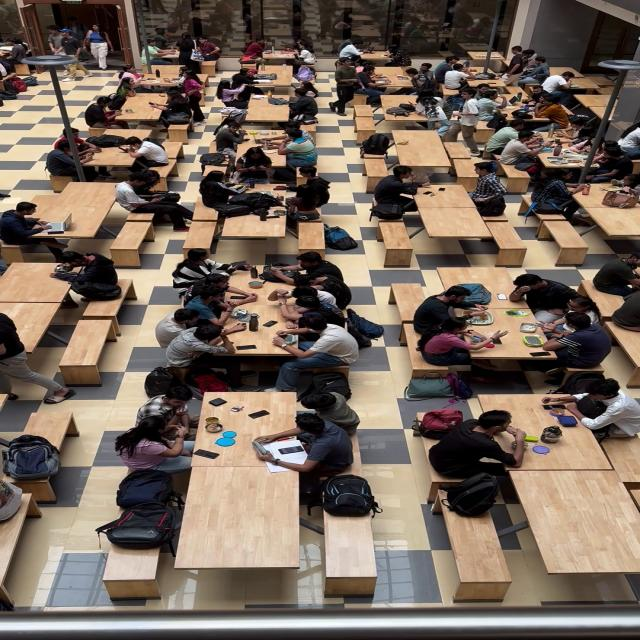Occupied: (166, 249, 381, 371), (415, 260, 610, 373), (427, 382, 640, 469), (140, 385, 360, 468), (474, 112, 640, 168), (378, 165, 506, 219), (0, 307, 67, 406), (208, 168, 330, 220), (119, 469, 180, 565), (48, 129, 172, 173), (208, 119, 319, 168), (44, 244, 134, 304), (85, 80, 201, 125), (0, 310, 57, 399), (0, 430, 62, 510), (458, 94, 598, 126), (537, 174, 640, 216), (451, 46, 547, 91), (336, 55, 440, 96), (220, 77, 324, 116), (119, 173, 198, 224), (435, 467, 511, 520), (308, 467, 386, 516), (6, 197, 84, 246), (123, 30, 217, 64), (245, 32, 322, 62), (608, 253, 640, 323), (0, 27, 40, 81), (334, 32, 391, 62), (366, 124, 409, 154), (556, 67, 580, 96)
Unoccupied: (522, 471, 640, 577), (190, 469, 304, 574), (451, 522, 512, 580), (324, 518, 376, 576), (74, 316, 112, 372), (103, 550, 160, 580), (4, 256, 32, 304), (24, 407, 73, 434), (56, 182, 114, 204), (550, 223, 588, 250), (296, 223, 331, 250), (429, 221, 492, 236), (417, 131, 446, 163), (182, 220, 215, 248), (230, 218, 282, 235), (492, 219, 525, 245), (117, 227, 149, 250), (607, 218, 640, 240), (382, 223, 409, 246), (451, 140, 466, 161), (196, 226, 202, 240)
